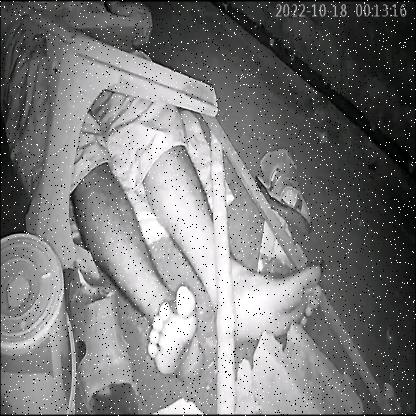leg: (141, 137, 327, 350), (51, 161, 210, 388)
